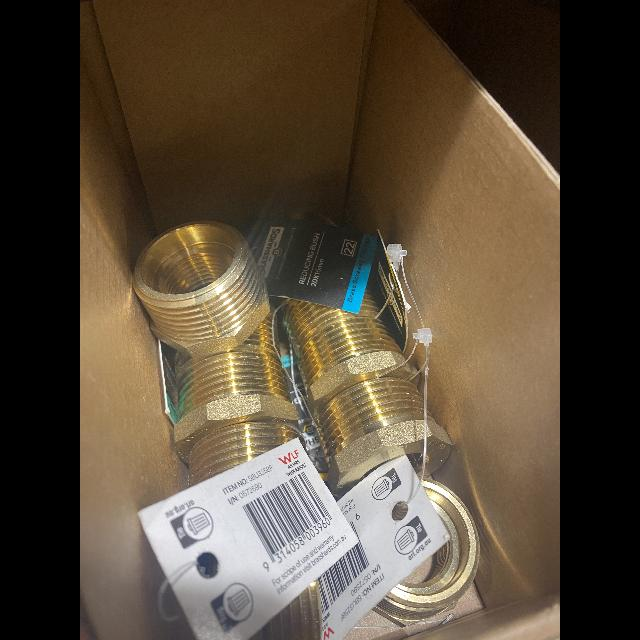Brass: (133, 221, 269, 356), (375, 480, 480, 627), (173, 351, 299, 462), (316, 379, 424, 497), (299, 318, 404, 420), (188, 419, 304, 486), (283, 280, 378, 353), (255, 582, 321, 640), (229, 308, 278, 358), (425, 410, 454, 479), (175, 349, 206, 377), (381, 360, 416, 379), (274, 318, 281, 352), (410, 376, 419, 386)
